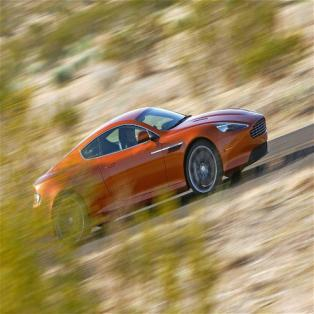Auto: (31, 104, 270, 248)
